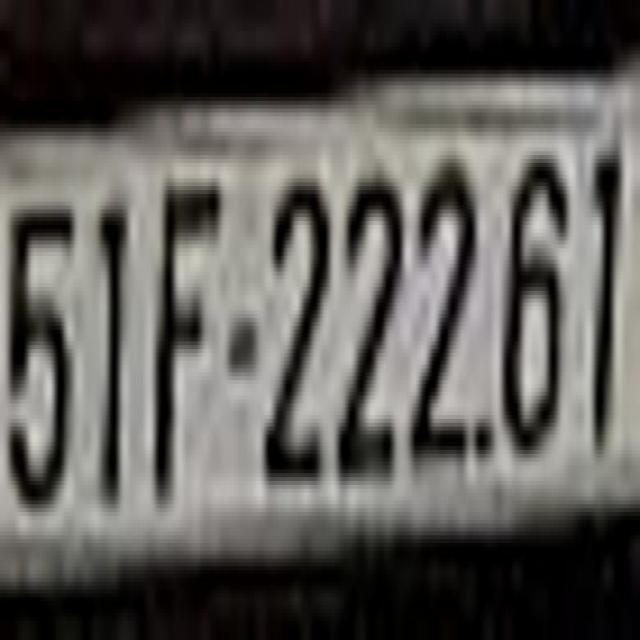1: (580, 105, 630, 481)
2: (336, 112, 401, 496), (264, 116, 326, 508), (413, 97, 474, 489)
5: (4, 101, 76, 547)
6: (502, 101, 565, 473)
F: (154, 147, 222, 516)
